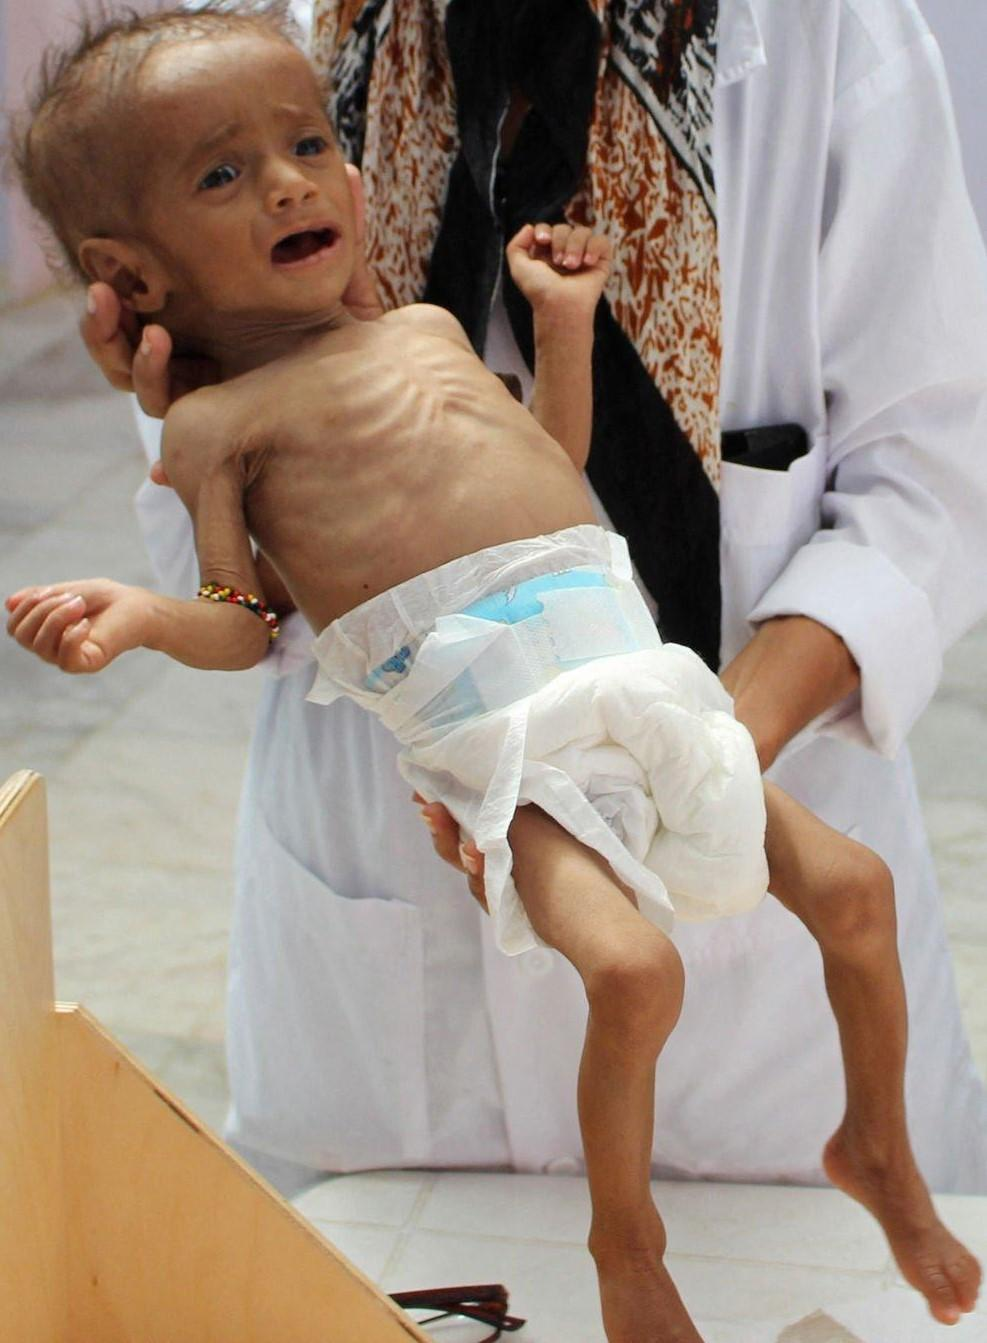Stunting: (30, 53, 457, 393)
